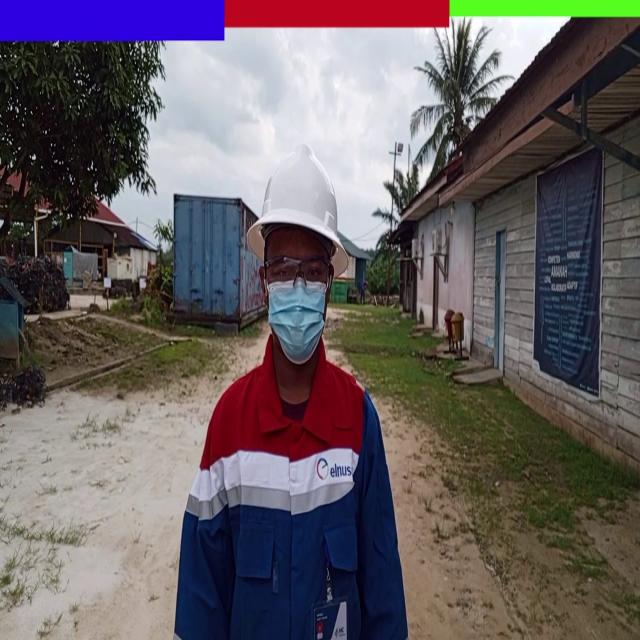Hardhat: (246, 141, 350, 278)
Mask: (265, 283, 330, 367)
Overall Suit: (175, 356, 410, 640)
